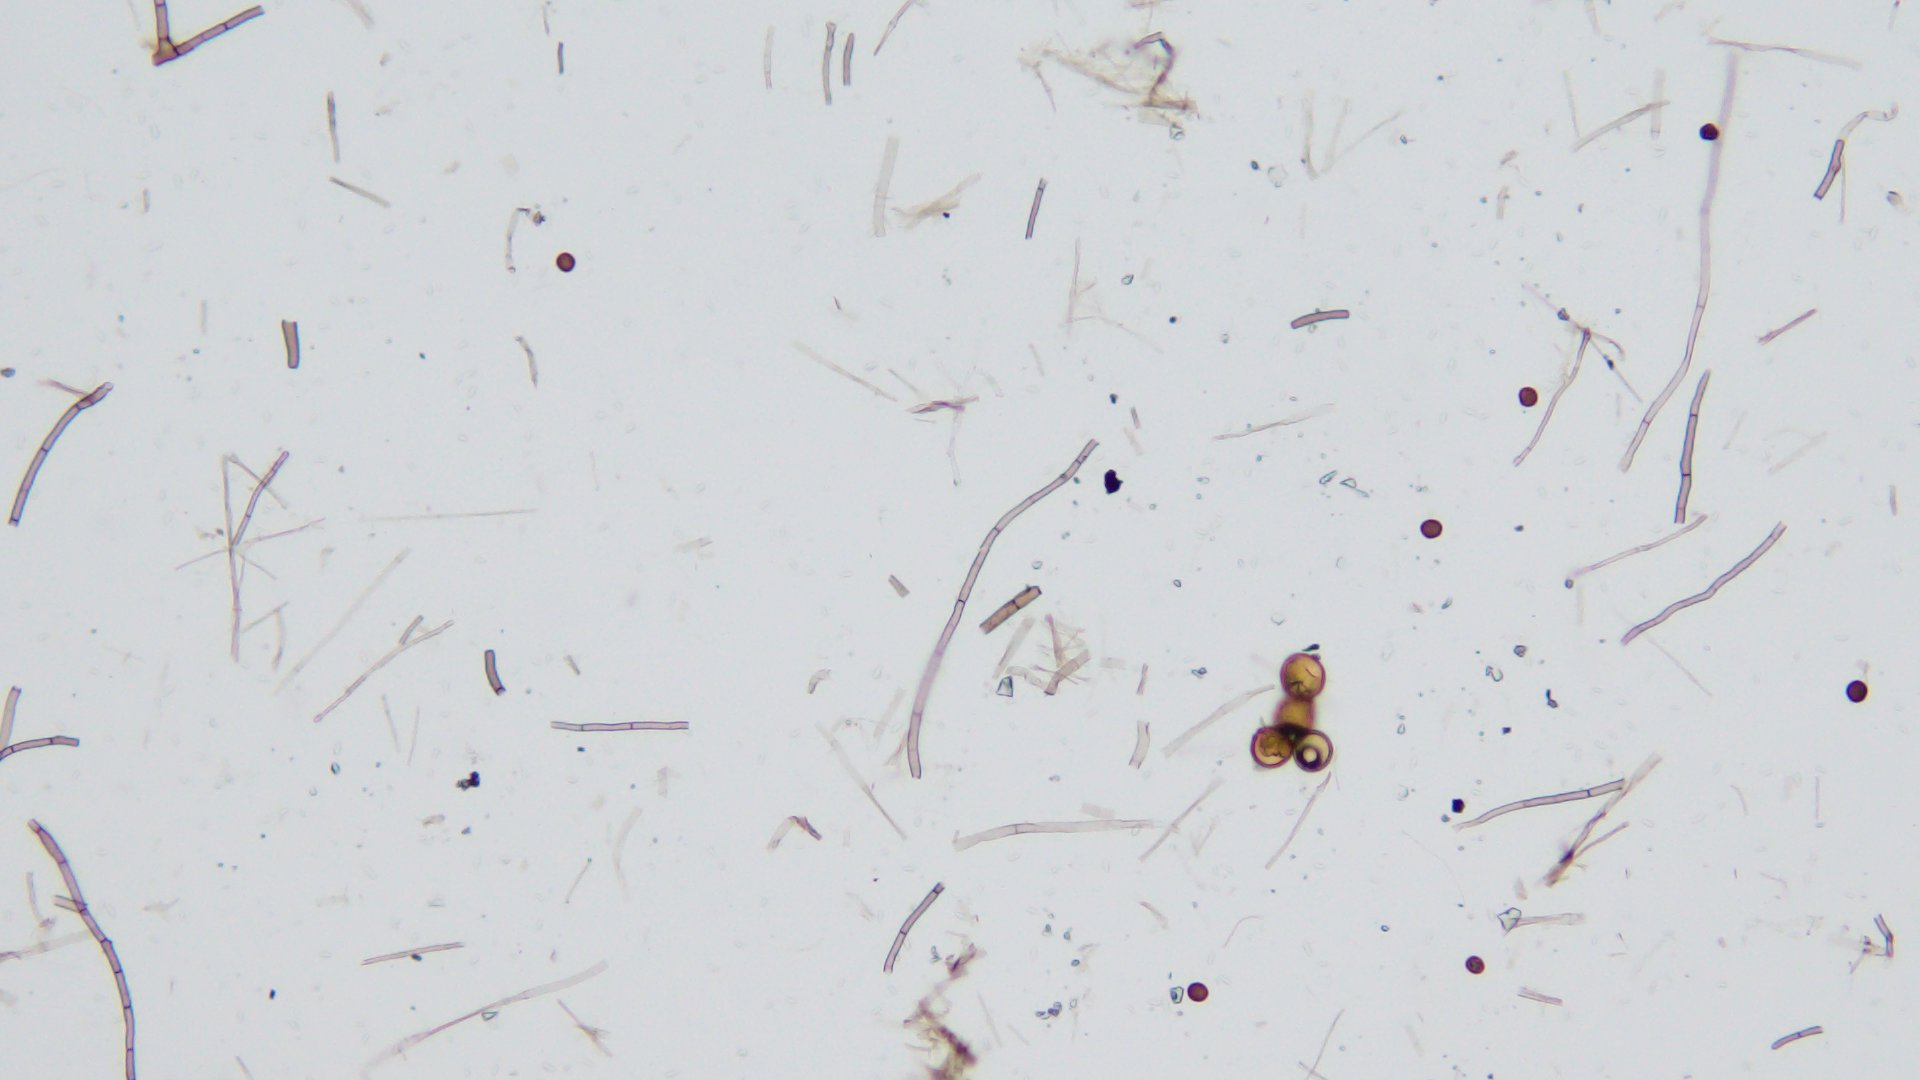shs_spore: (1845, 679, 1869, 702), (553, 252, 578, 273), (1422, 520, 1445, 541), (1185, 982, 1211, 1002), (1516, 386, 1539, 406), (1465, 955, 1485, 975)
xb_spore: (1270, 698, 1323, 742), (1247, 727, 1294, 767), (1278, 655, 1325, 694), (1294, 731, 1333, 774)
